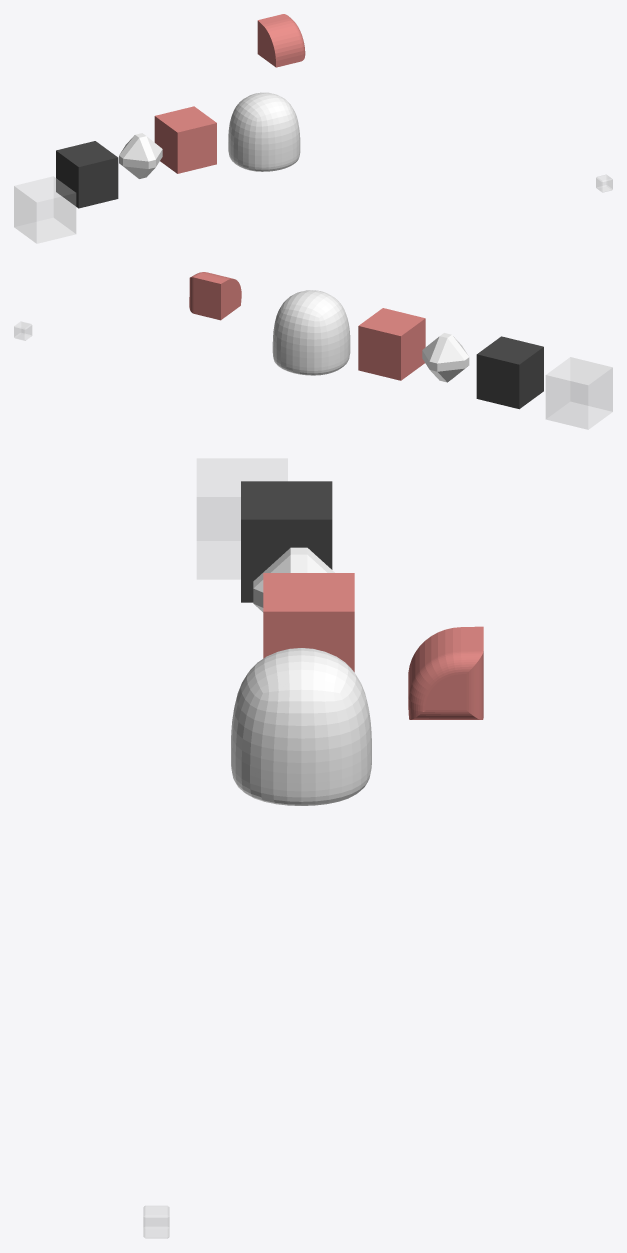
3 views of the same model, one above another, from view 1: azimuth 30°, elevation 25°; view 2: azimuth 150°, elevation 25°; view 3: azimuth 270°, elevation 25° (orthographic). The views are drawn at different scales.
Parts seen in each view (by area): view 1: Cube.005, Cube.003, Cube.004, Cube.001, Cube-col, Cube.002; view 2: Cube.005, Cube.003, Cube.001, Cube.004, Cube-col, Cube.002, Cube-noimp; view 3: Cube.005, Cube.003, Cube.001, Cube-col, Cube.004, Cube.002.
Boxes of the visible parts, bbox=[...] form: Cube.005: bbox=[228, 92, 300, 171]; Cube.003: bbox=[56, 141, 118, 208]; Cube.004: bbox=[14, 176, 75, 243]; Cube.001: bbox=[154, 106, 216, 173]; Cube-col: bbox=[257, 14, 305, 67]; Cube.002: bbox=[119, 133, 162, 178]; Cube.005: bbox=[272, 290, 350, 375]; Cube.003: bbox=[476, 336, 543, 409]; Cube.001: bbox=[358, 308, 425, 380]; Cube.004: bbox=[546, 357, 612, 429]; Cube-col: bbox=[189, 272, 241, 320]; Cube.002: bbox=[422, 333, 469, 382]; Cube-noimp: bbox=[14, 321, 31, 340]; Cube.005: bbox=[231, 648, 371, 805]; Cube.003: bbox=[241, 481, 332, 602]; Cube.001: bbox=[263, 573, 354, 672]; Cube-col: bbox=[408, 626, 483, 719]; Cube.004: bbox=[197, 458, 287, 579]; Cube.002: bbox=[253, 547, 334, 612].
Bounding box in the file's own units: 34.92 × 10.32 × 9.13.
